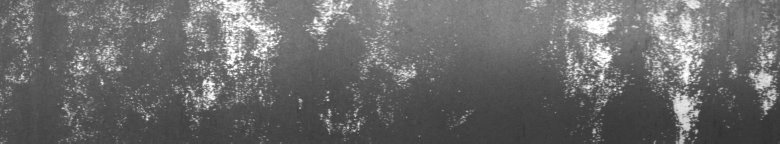kb: (550, 4, 776, 136)
